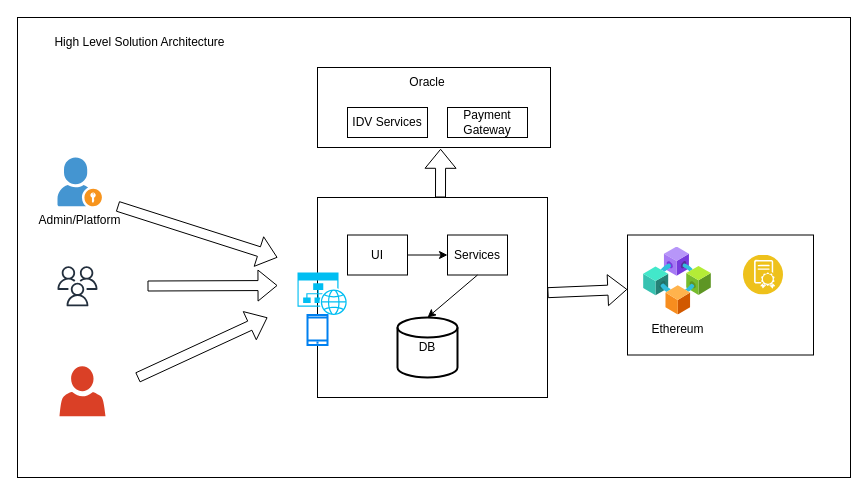
Image size: 868x495. Some labels were removed from this diagram. Each missing label, with the box of its shape:
Celebrity: (59, 366, 105, 416)
Fans: (57, 266, 97, 306)
Smart Contract: (743, 254, 783, 294)
